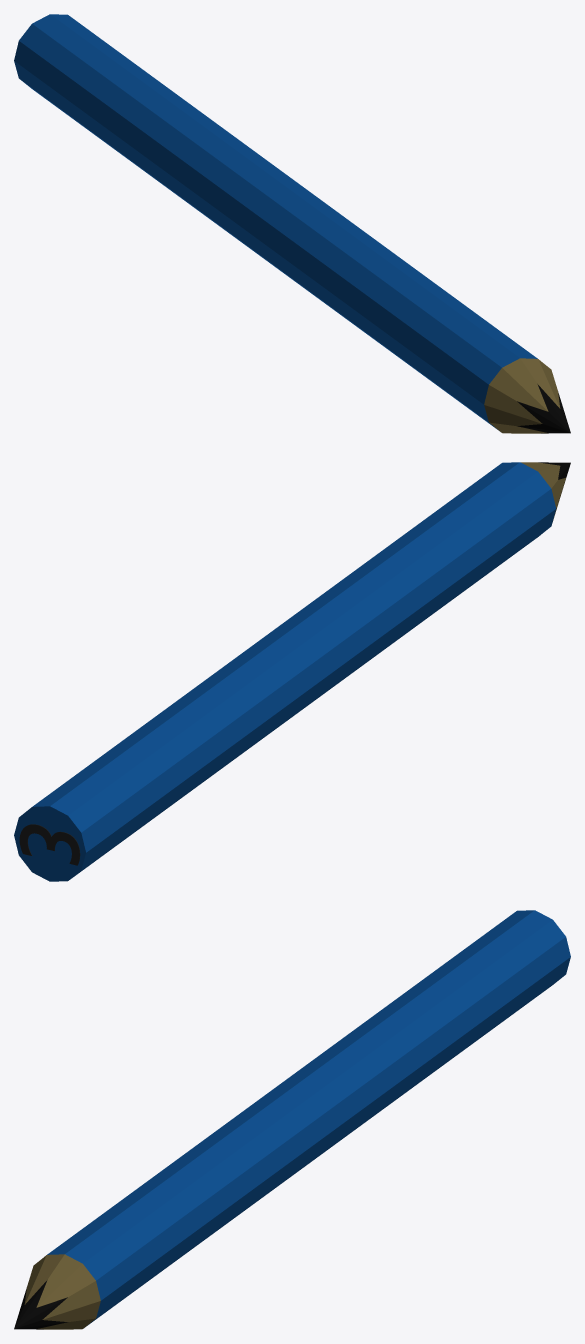
The model's file is azure.obj.
The picture shows the model from 3 angles, top to bottom: view 1: azimuth 30°, elevation 25°; view 2: azimuth 150°, elevation 25°; view 3: azimuth 330°, elevation 25°; orthographic projection.
Visible parts, largest first — view 1: azurepencil; view 2: azurepencil; view 3: azurepencil.
Boxes of the visible parts, x1,y1,x2,y2 form: azurepencil: [14, 14, 570, 433]; azurepencil: [14, 462, 570, 881]; azurepencil: [14, 910, 570, 1329].
Size of the model in its own units: 0.02 by 0.02 by 0.2502.
